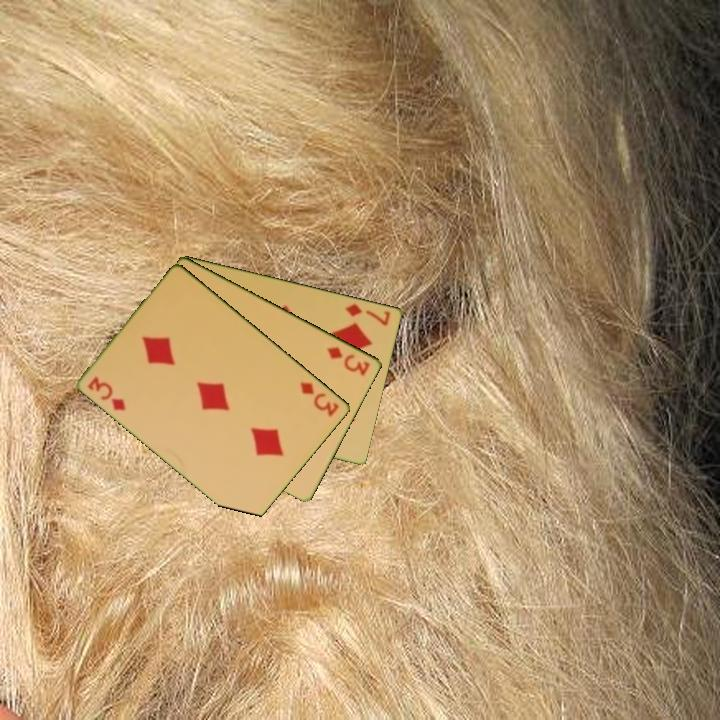3d: (297, 378, 342, 420), (84, 373, 130, 414), (323, 343, 373, 379)
7d: (342, 299, 393, 329)
